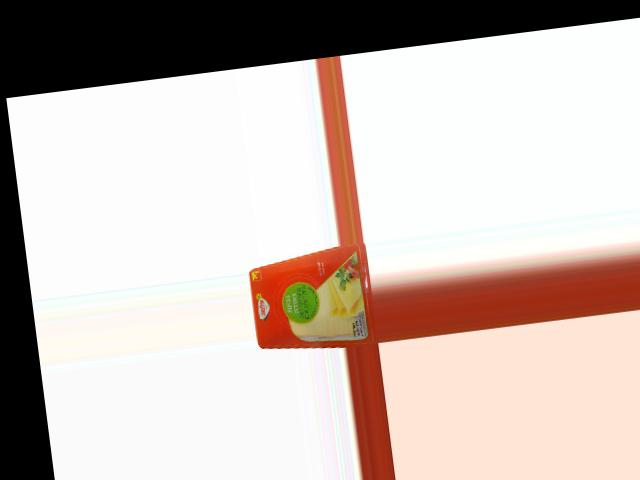cheese: (247, 241, 378, 356)
